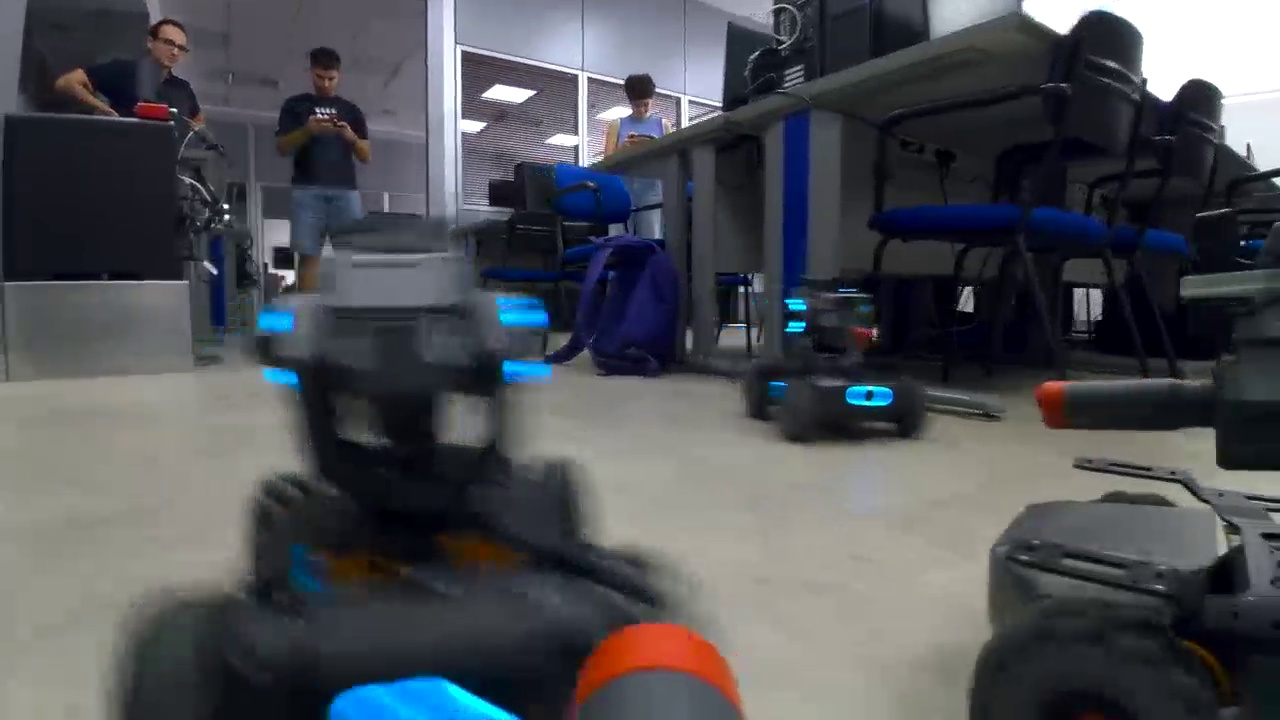robot: (78, 204, 697, 720), (951, 256, 1280, 720), (735, 272, 936, 449)
